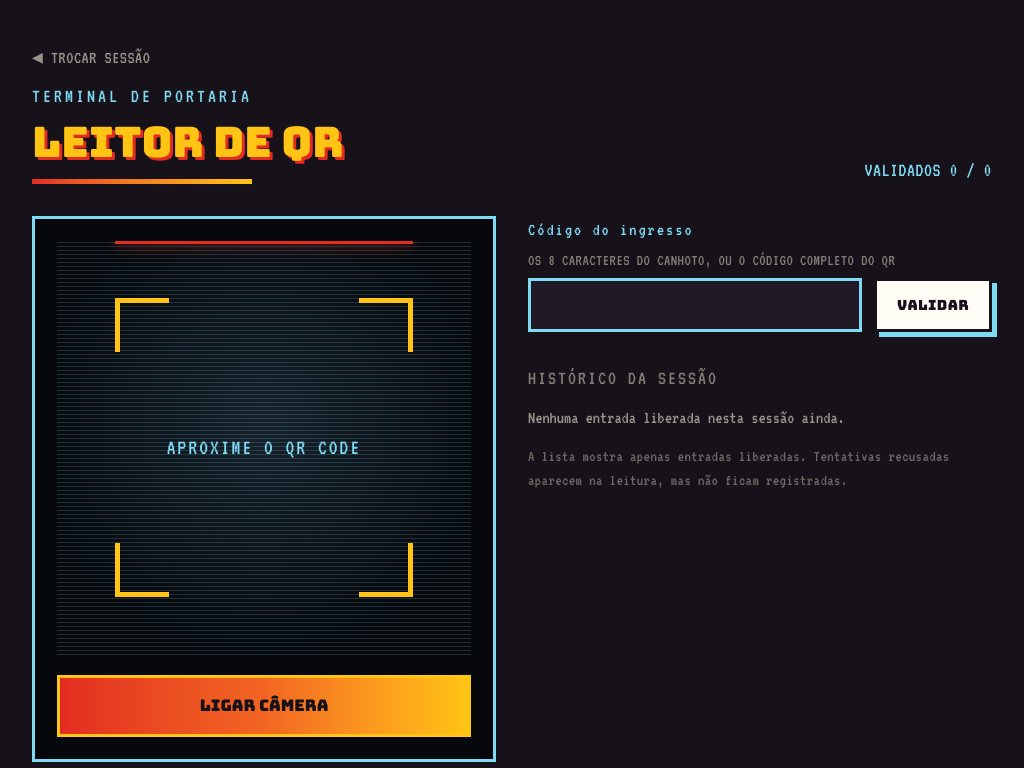
Scenario: ValidacaoPortariaPage › does not refresh the panel when the ticket is refused
expect the text "Nenhuma entrada liberada nesta sessão ainda." is shown: met, box [528, 408, 845, 426]
Type "codigo-usado" into the field labelled "Código do ingresso". click: (695, 304)
box: [528, 278, 862, 332]
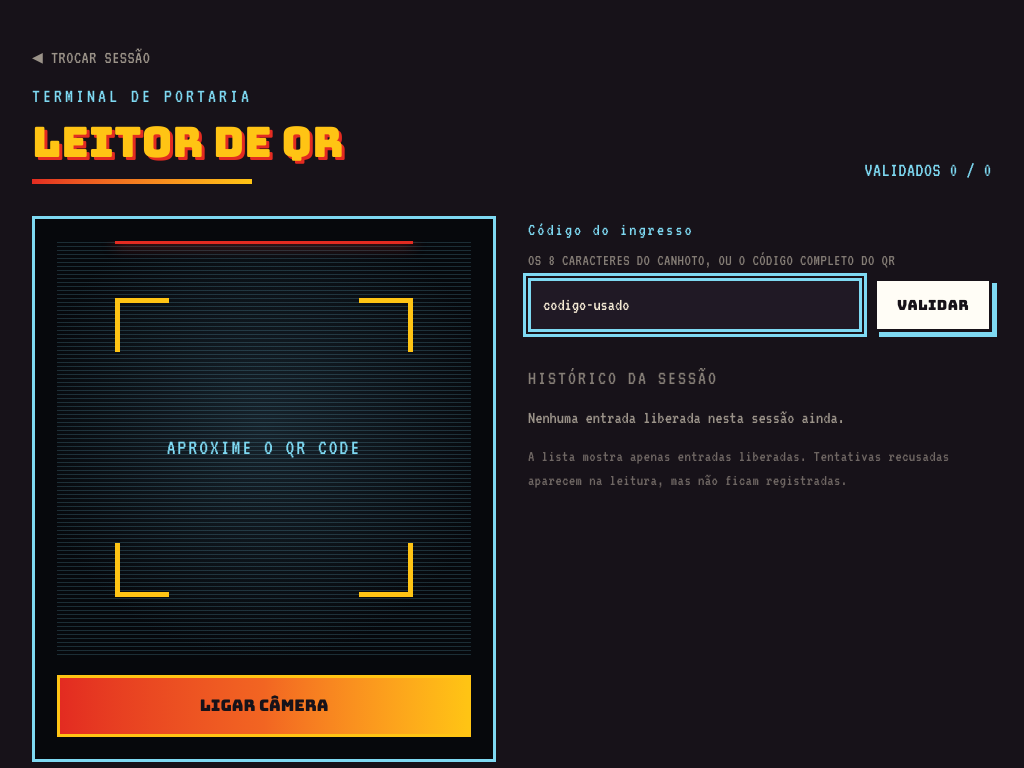
Click the button "VALIDAR". click: click(933, 304)
box: [874, 278, 992, 332]
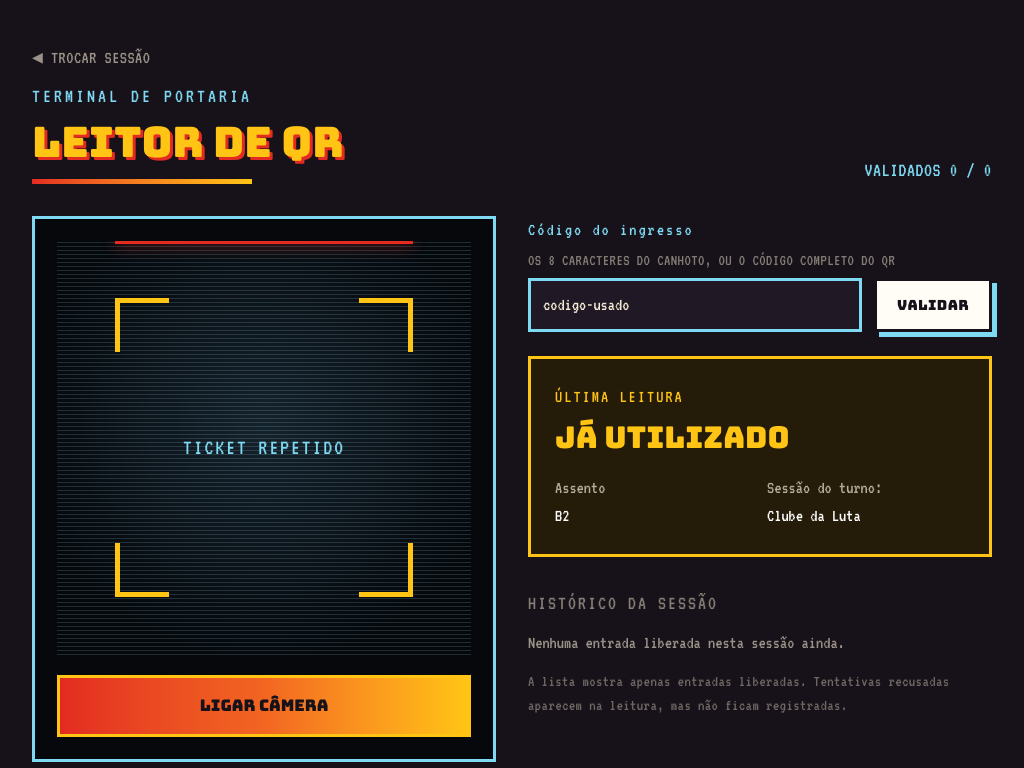
expect the text "JÁ UTILIZADO" is shown: met, box [555, 416, 790, 456]
